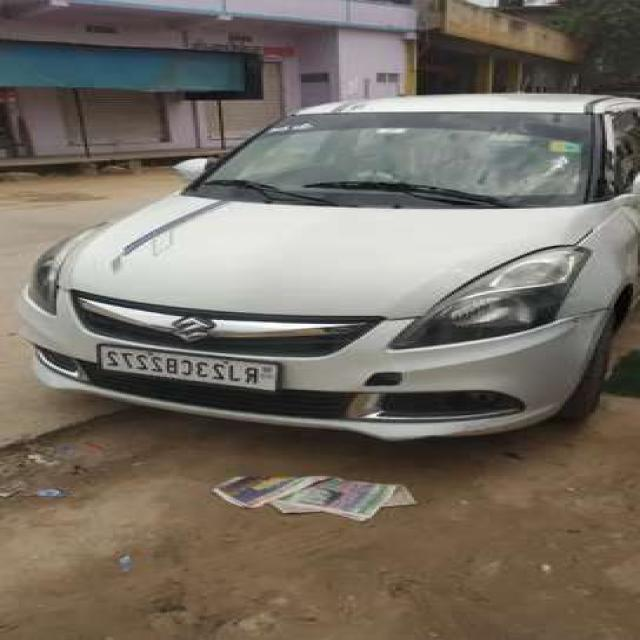license_plate: (81, 337, 287, 403)
